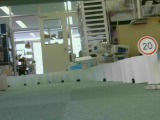speed_20: (136, 35, 159, 57)
